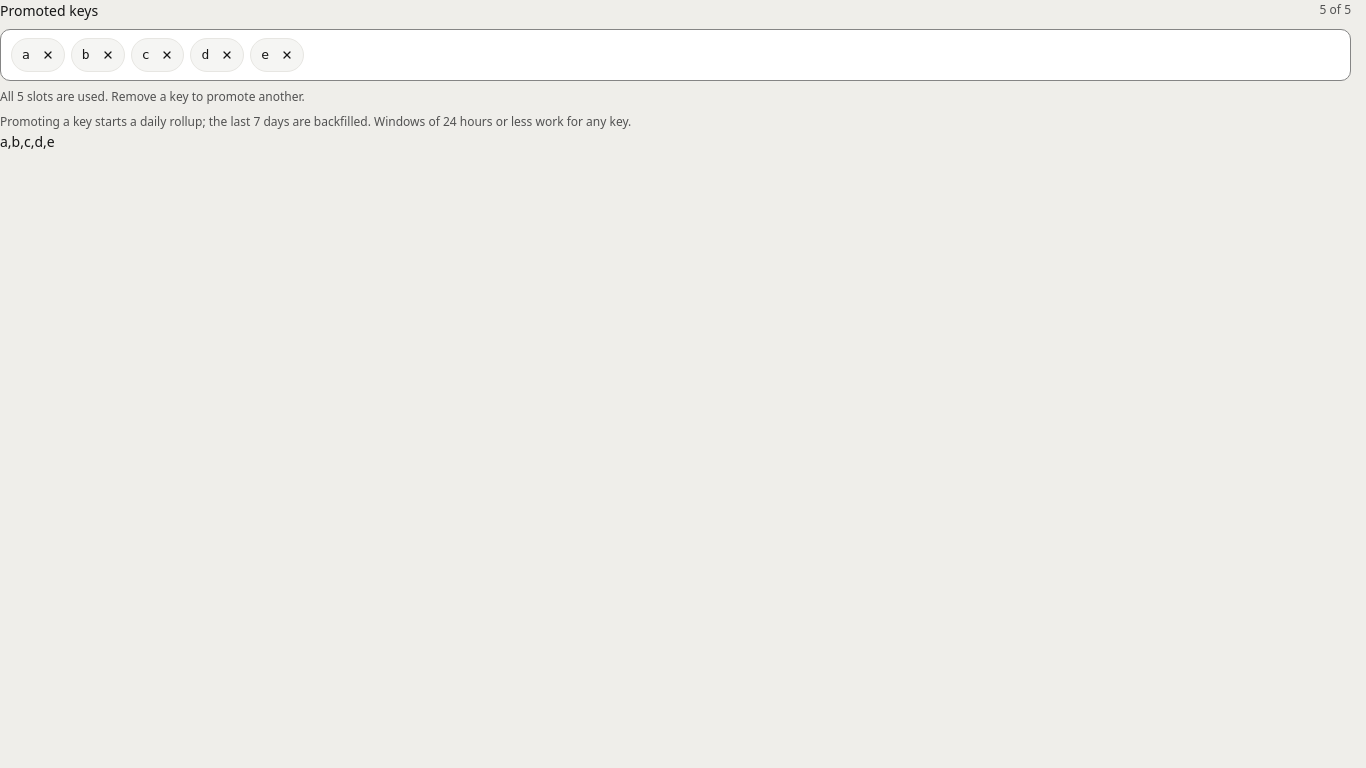
Test: PromotedKeysField › removes a key and hides the input once five are promoted
Check: the text "All 5 slots are used. Remove a key to promote another." is shown, box [0, 88, 305, 105]
Click the button named "Remove c".
click(168, 55)  # box [156, 43, 180, 67]
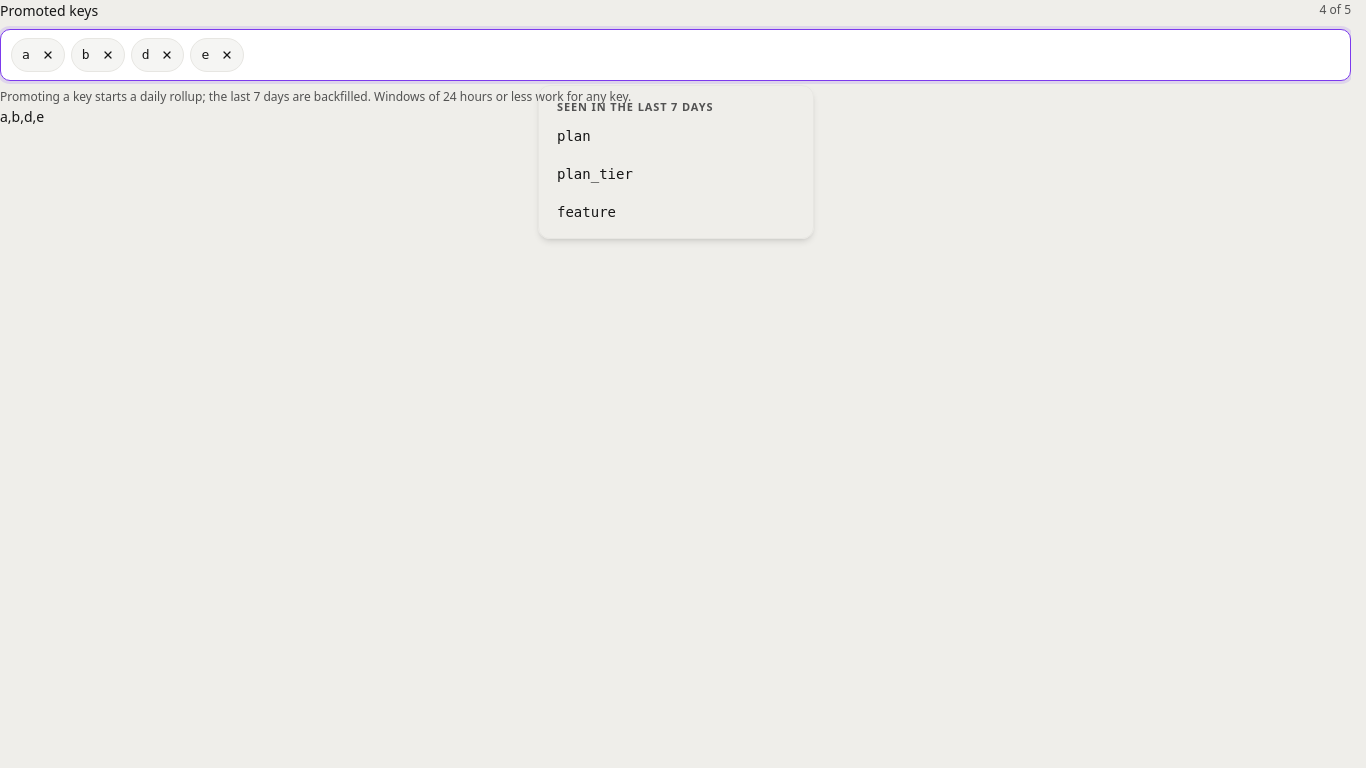
Check: the text with test id "value" reads "a,b,d,e", box [0, 107, 44, 126]
